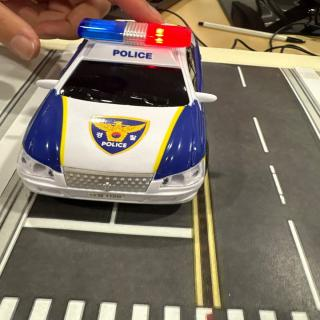Police_car: (17, 19, 216, 203)
